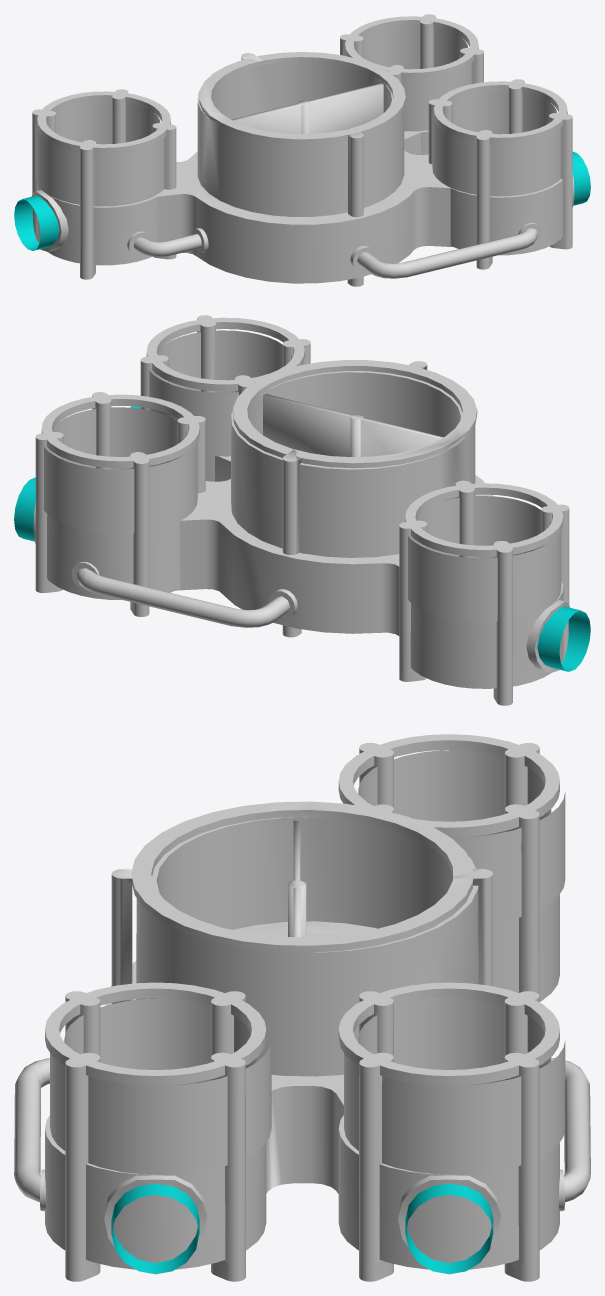
File: MixerDefaultInternalVariant.gltf
3 renders of one model, top to bottom at view 1: azimuth 30°, elevation 25°; view 2: azimuth 150°, elevation 25°; view 3: azimuth 270°, elevation 25°, orthographic. The views are drawn at different scales.
Parts seen in each view (by area): view 1: MixerFoundation, MixerGlas, MixerRotator; view 2: MixerFoundation, MixerGlas, MixerRotator; view 3: MixerFoundation, MixerGlas, MixerRotator.
Part boxes in pixels (bbox=[...]): MixerFoundation: bbox=[14, 14, 590, 286]; MixerGlas: bbox=[35, 26, 560, 216]; MixerRotator: bbox=[231, 83, 383, 134]; MixerFoundation: bbox=[14, 315, 590, 705]; MixerGlas: bbox=[44, 330, 561, 622]; MixerRotator: bbox=[263, 394, 442, 457]; MixerFoundation: bbox=[14, 734, 590, 1281]; MixerGlas: bbox=[50, 750, 565, 1174]; MixerRotator: bbox=[288, 820, 306, 937].
Size of the model in its own units: 3 by 1.01 by 1.96.
